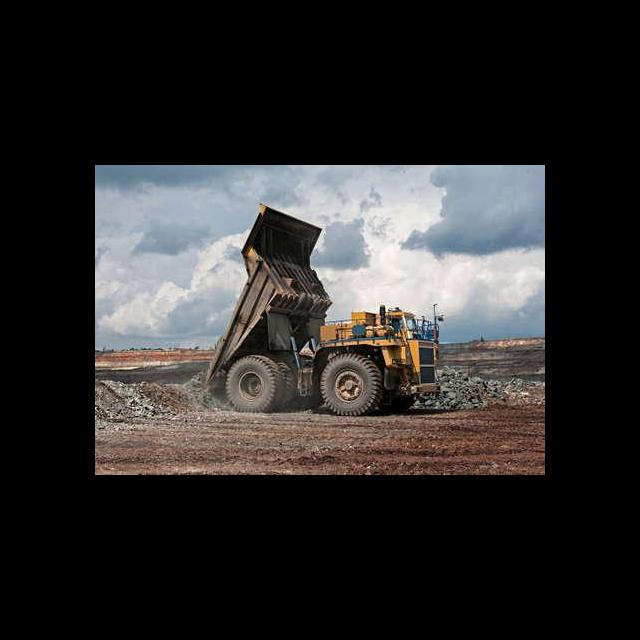dump truck: (201, 200, 442, 420)
